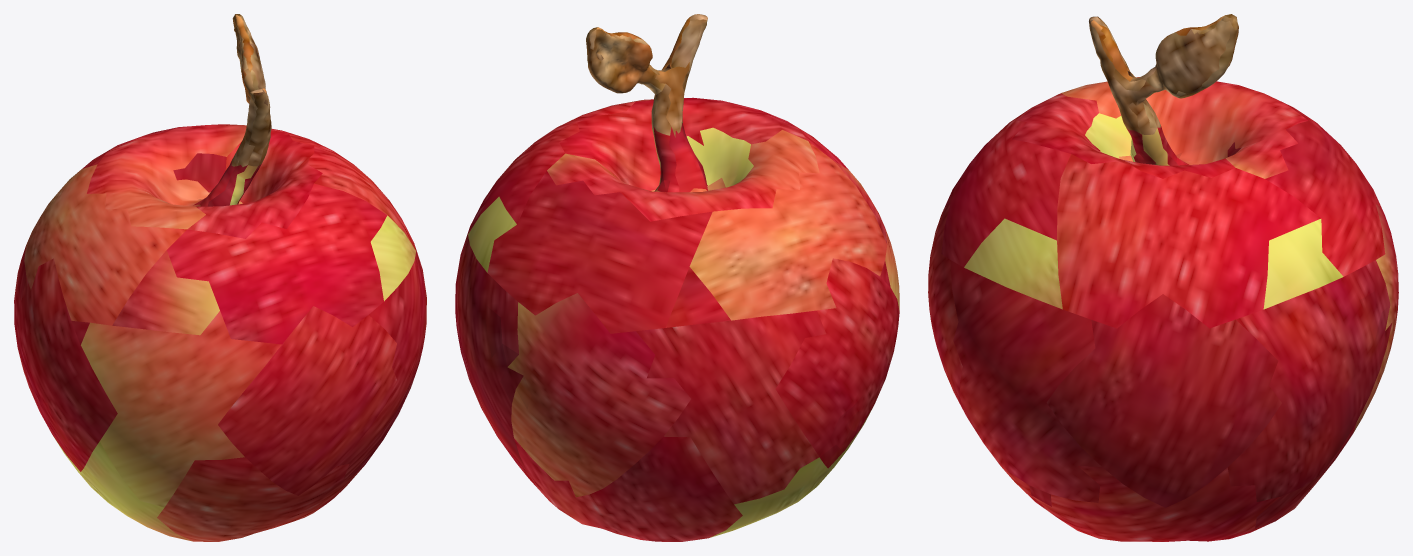
Rendered from apple_520.obj.
3 views of the same model, side by side, from view 1: azimuth 30°, elevation 25°; view 2: azimuth 150°, elevation 25°; view 3: azimuth 270°, elevation 25° (orthographic). The views are drawn at different scales.
Parts seen in each view (by area): view 1: body_Manzana.029, stem_Manzana.029; view 2: body_Manzana.029, stem_Manzana.029; view 3: body_Manzana.029, stem_Manzana.029.
Part boxes in pixels (x1,y1,x2,y2): body_Manzana.029: (14,124,426,541); stem_Manzana.029: (37,14,271,452); body_Manzana.029: (455,97,899,541); stem_Manzana.029: (485,14,863,456); body_Manzana.029: (928,77,1398,541); stem_Manzana.029: (1089,14,1392,370).
Size of the model in its own units: 8.24 by 10.03 by 8.22.
